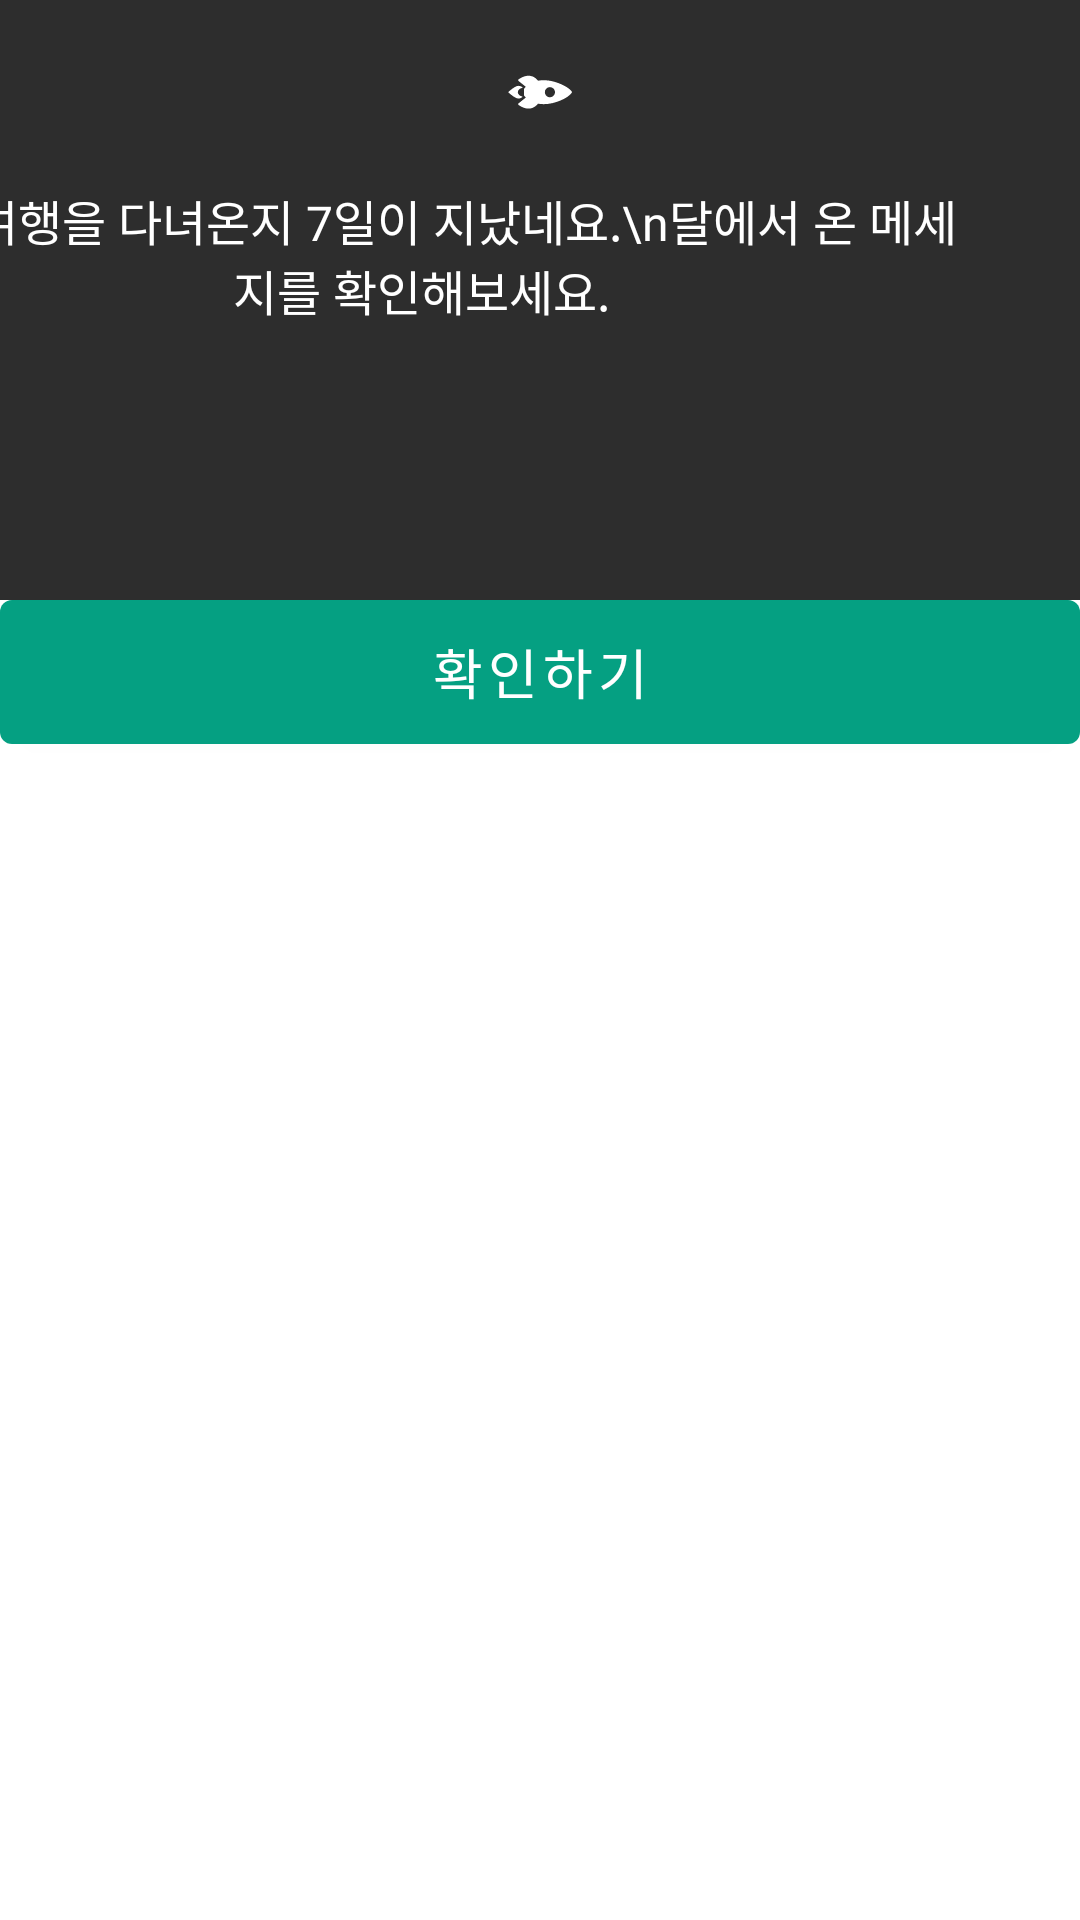

Icon bounding boxes for this 1080x1920 phone screenshot, format (x1, y1, x2, y2):
rocket: (508, 75, 572, 109)
